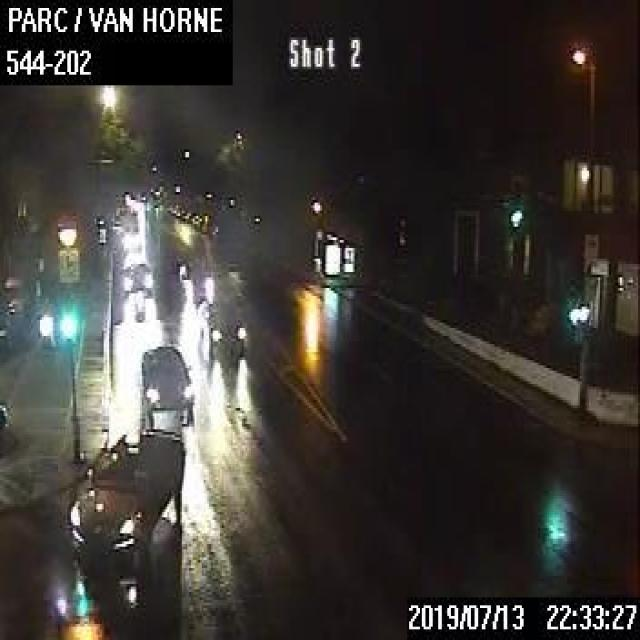vehicle: (69, 424, 184, 559), (140, 342, 193, 413), (201, 296, 245, 346), (172, 252, 212, 293), (122, 258, 152, 288)
